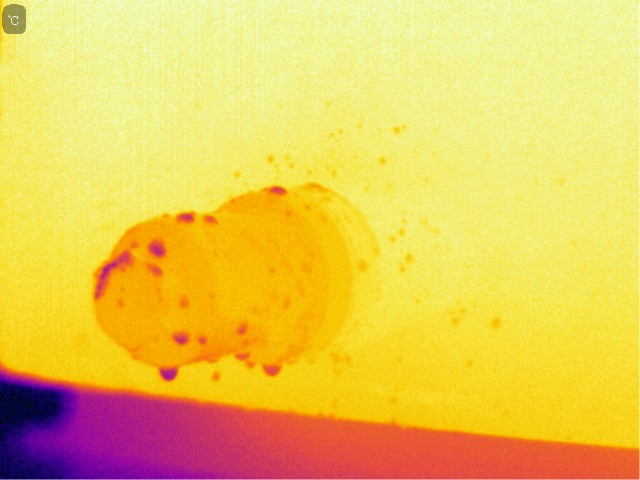Water: (147, 235, 174, 264), (261, 177, 289, 200), (170, 205, 199, 225), (260, 358, 284, 381), (169, 329, 196, 348), (157, 364, 181, 385), (198, 351, 230, 364), (487, 313, 508, 332), (303, 178, 327, 193), (145, 263, 166, 280), (230, 319, 251, 335), (234, 348, 251, 363), (207, 371, 223, 384), (202, 211, 218, 224), (197, 335, 211, 346)
